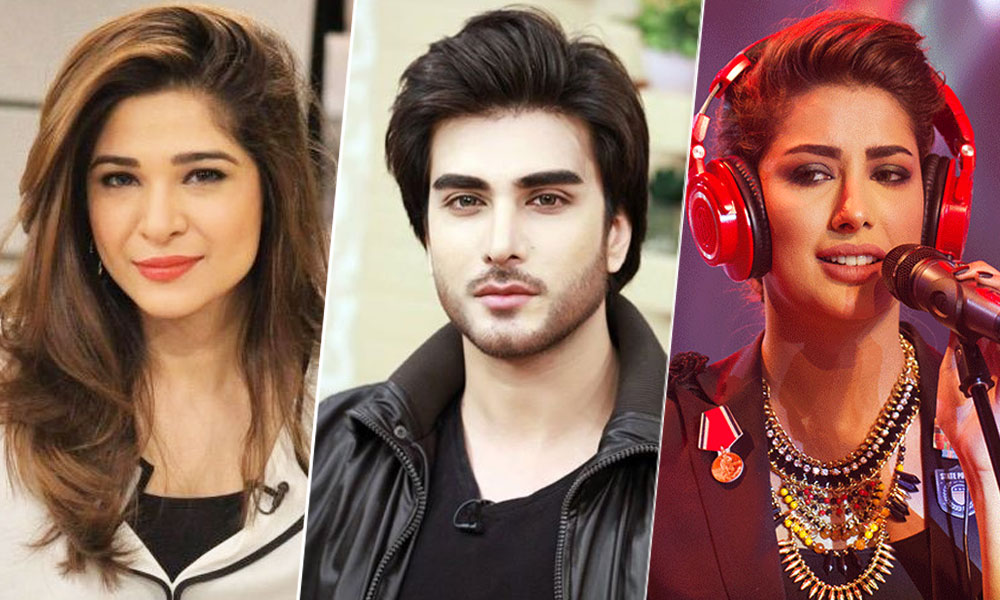NoMask: (437, 159, 587, 354), (780, 131, 922, 330), (88, 139, 239, 319)
